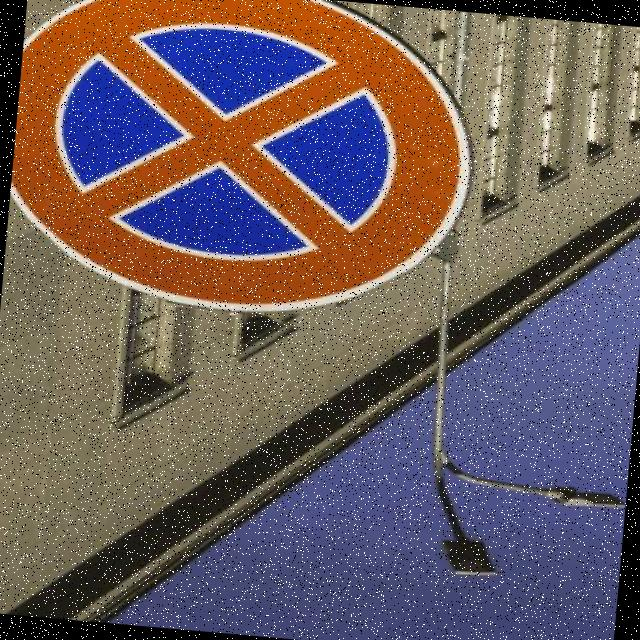no_parking: (0, 0, 490, 337)
